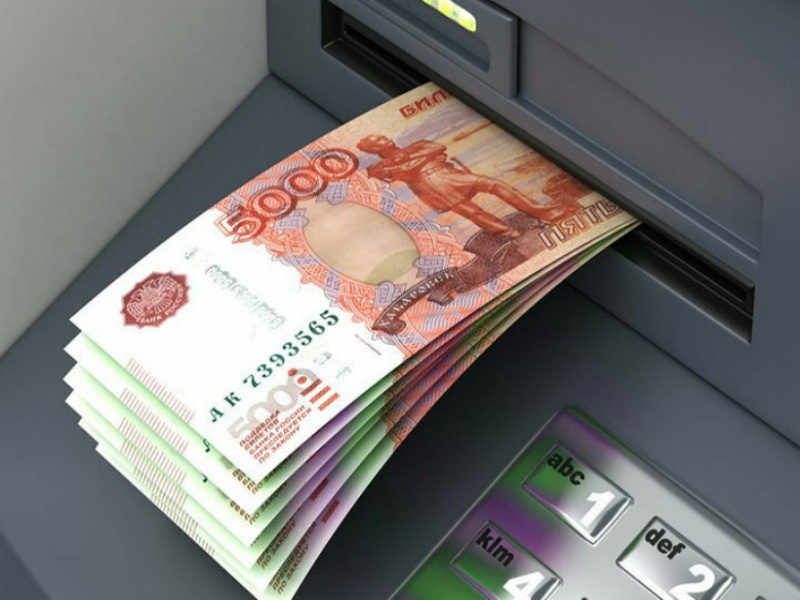cash: (62, 83, 643, 600)
